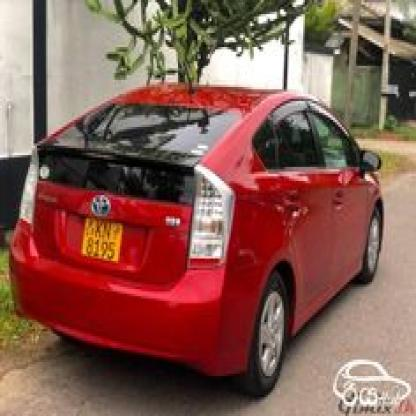car back: (4, 74, 385, 406)
number plate: (86, 218, 119, 261)
